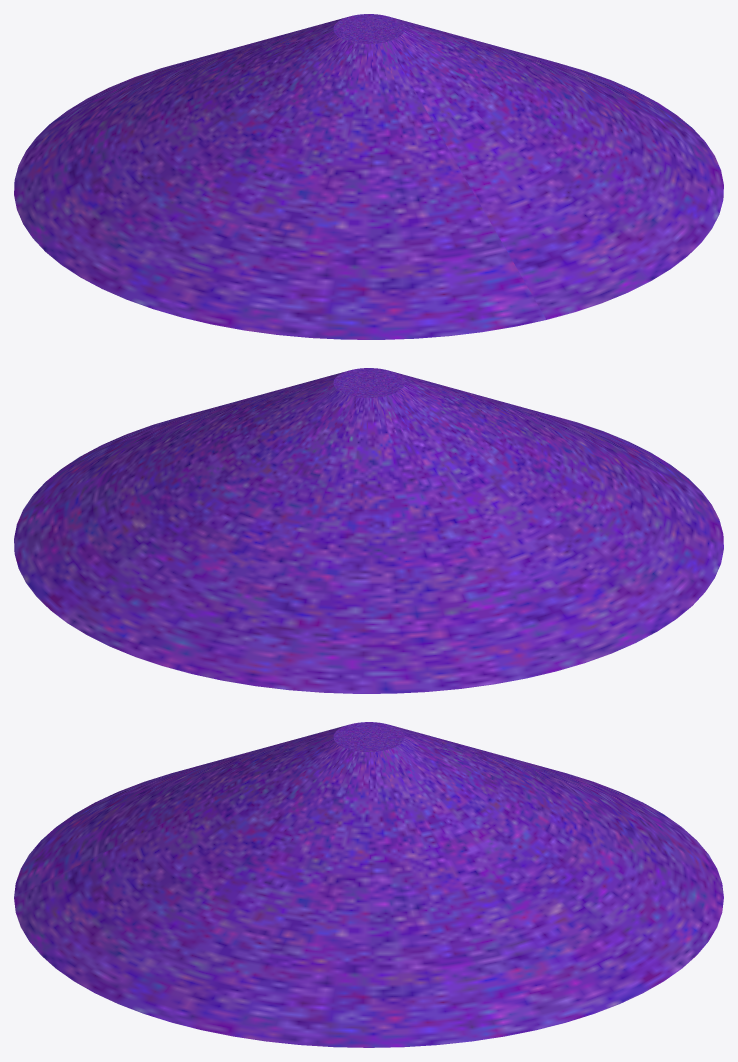
The model's file is amethyst_dust.glb.
3 renders of one model, top to bottom at view 1: azimuth 30°, elevation 25°; view 2: azimuth 150°, elevation 25°; view 3: azimuth 270°, elevation 25°, orthographic.
Parts seen in each view (by area): view 1: MeshInstance3D; view 2: MeshInstance3D; view 3: MeshInstance3D.
Part boxes in pixels (<box>): MeshInstance3D: <box>14,14,723,339</box>; MeshInstance3D: <box>14,368,723,693</box>; MeshInstance3D: <box>14,722,723,1047</box>.
Bounding box in the file's own units: 0.2 × 0.05 × 0.2.
Materials: 1 (1 with a texture image).
